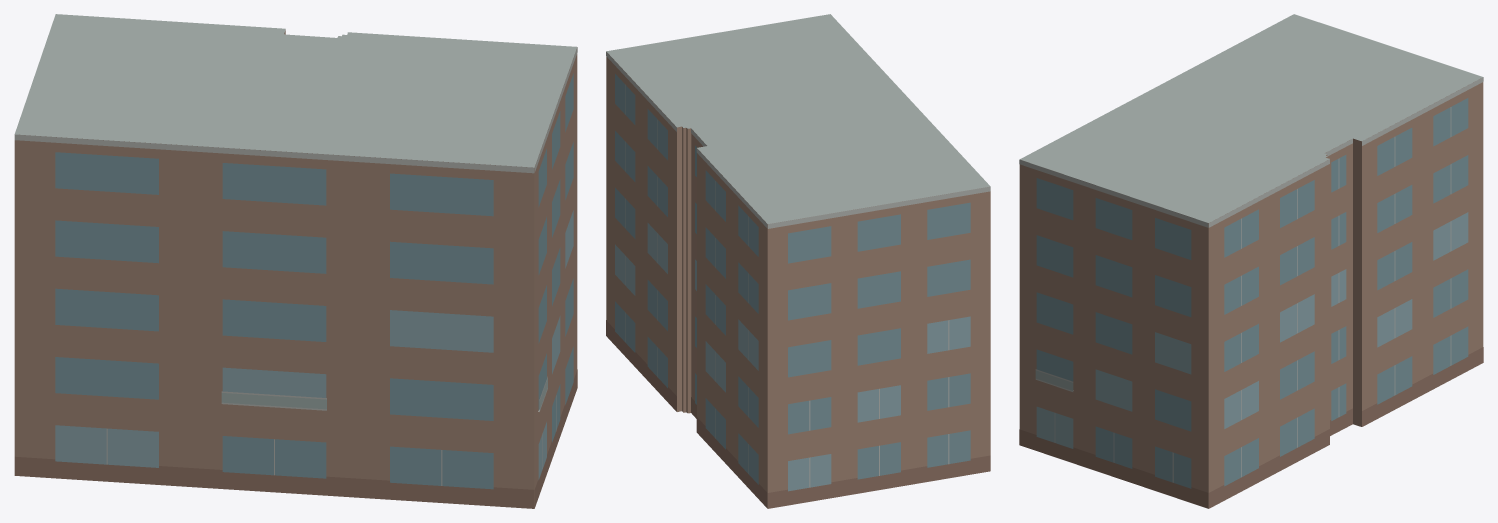
The model's file is survey-upis-32951110.glb.
3 views of the same model, side by side, from view 1: azimuth 30°, elevation 25°; view 2: azimuth 150°, elevation 25°; view 3: azimuth 270°, elevation 25° (orthographic). The views are drawn at different scales.
Parts seen in each view (by area): view 1: survey-upis-32951110.tmp; view 2: survey-upis-32951110.tmp; view 3: survey-upis-32951110.tmp.
Boxes of the visible parts, x1,y1,x2,y2 form: survey-upis-32951110.tmp: (14,14,577,508); survey-upis-32951110.tmp: (606,14,990,508); survey-upis-32951110.tmp: (1019,14,1483,508).
Bounding box in the file's own units: 22.77 × 14.5 × 21.34.
